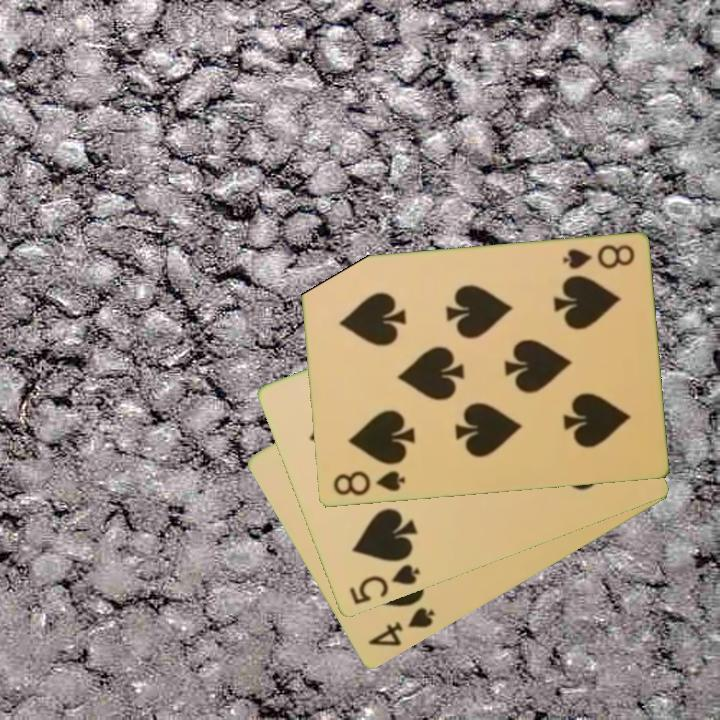4s: (364, 604, 438, 651)
5s: (345, 561, 423, 609)
8s: (329, 467, 408, 499), (558, 241, 637, 272)
